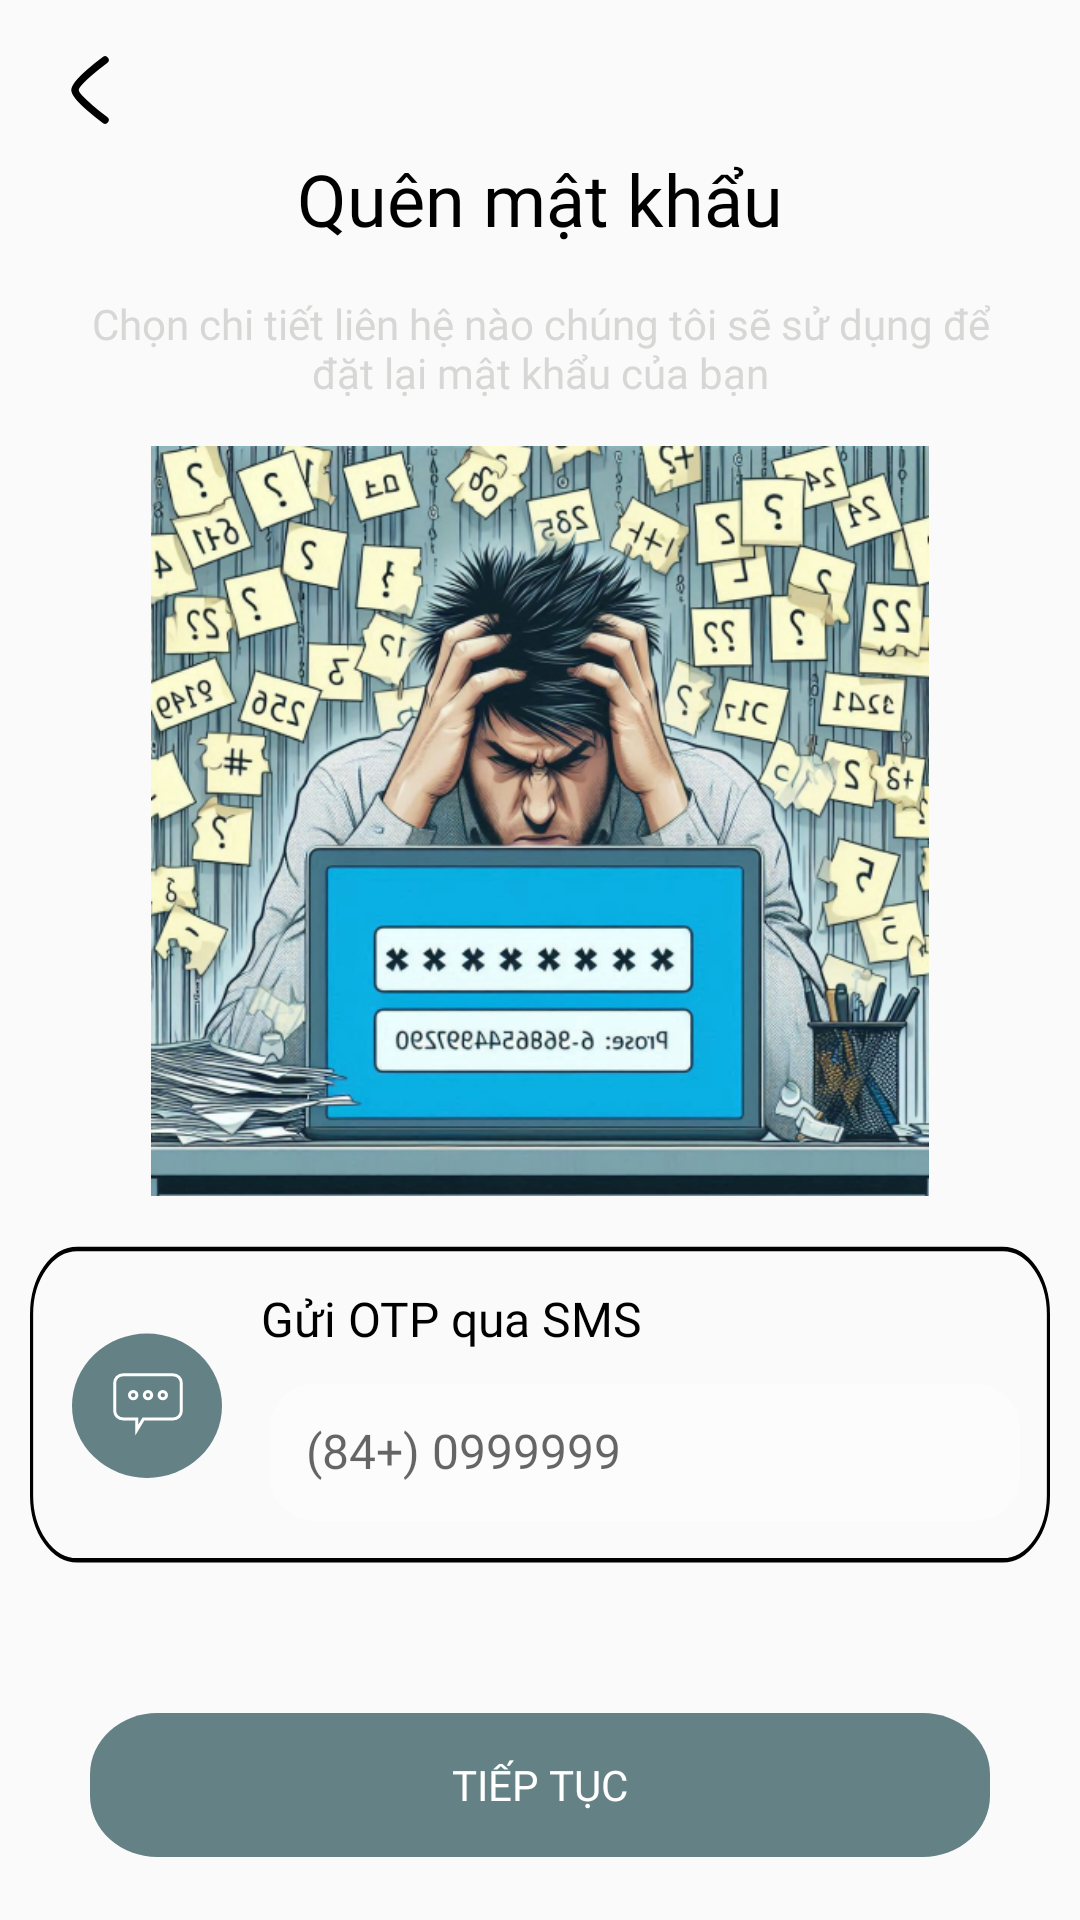

Where icons sit on this 1080px×1920px app screen, as (x1, y1, x2, y2):
back: (71, 56, 109, 124)
